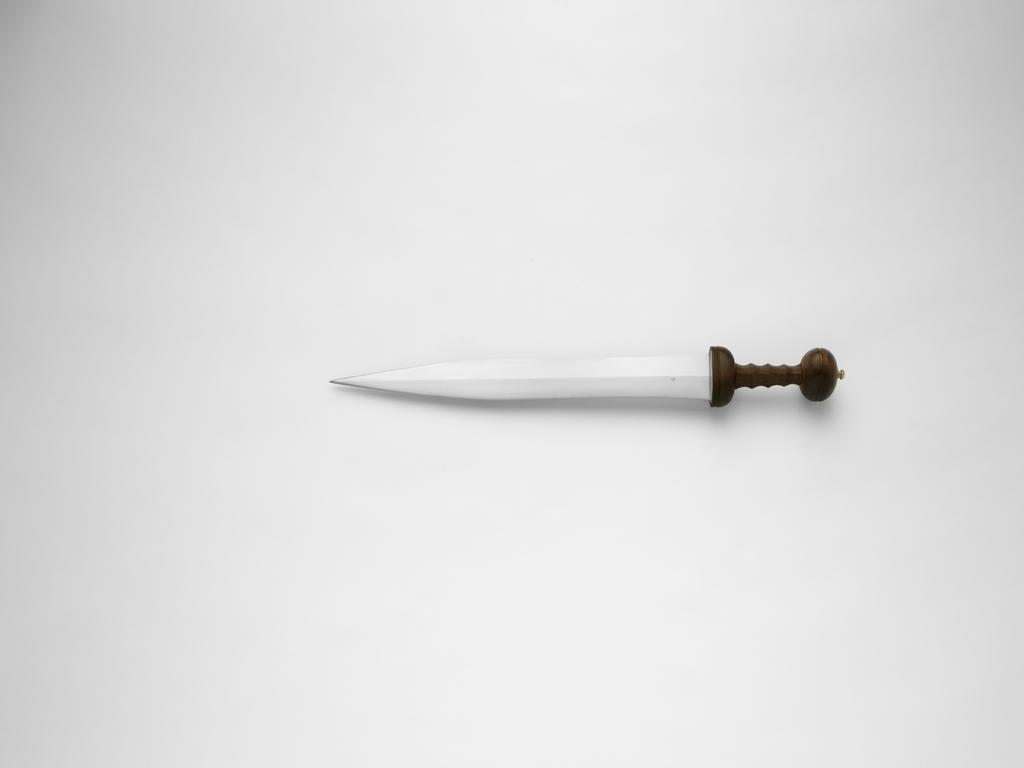Sword: (331, 348, 843, 408)
